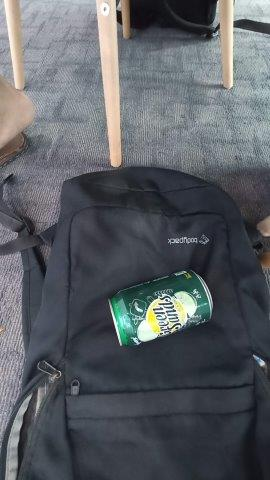kaleng: (107, 270, 214, 345)
